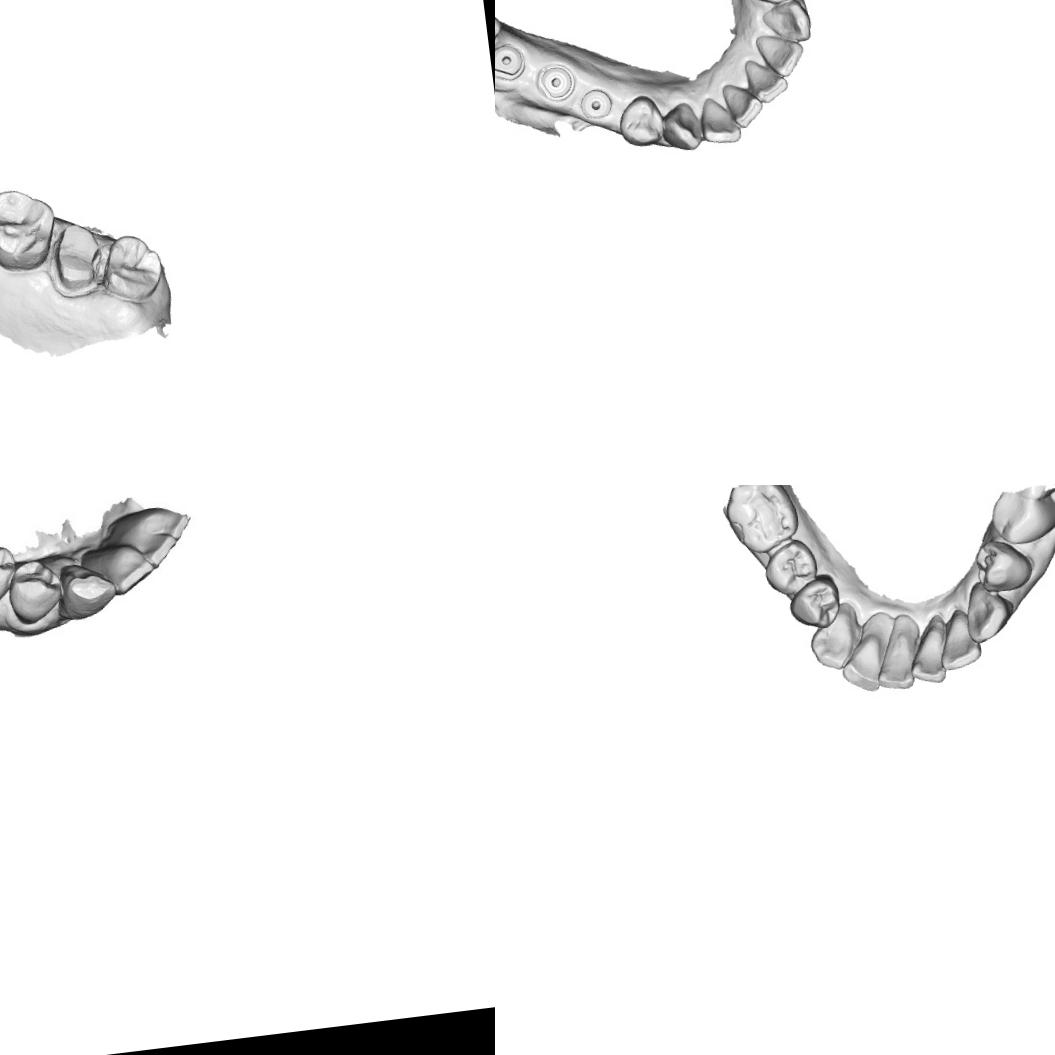canine: (49, 557, 118, 626), (804, 599, 864, 674), (960, 578, 1014, 645), (759, 0, 815, 48), (660, 99, 704, 154)
crown: (42, 218, 110, 300)
implant: (538, 62, 576, 103), (578, 85, 615, 124), (495, 38, 527, 81)
incisor: (81, 538, 152, 598), (836, 620, 891, 695), (904, 612, 952, 686), (117, 516, 178, 574), (932, 604, 984, 672), (752, 26, 808, 82), (871, 628, 917, 694), (695, 92, 743, 148), (742, 54, 790, 107), (718, 78, 764, 132)
molar: (0, 183, 62, 276), (721, 485, 802, 556), (96, 230, 168, 308)
premolar: (1, 561, 65, 628), (988, 486, 1055, 547), (760, 536, 822, 599), (972, 536, 1035, 594), (786, 573, 844, 633), (614, 92, 666, 152), (0, 534, 16, 613)
